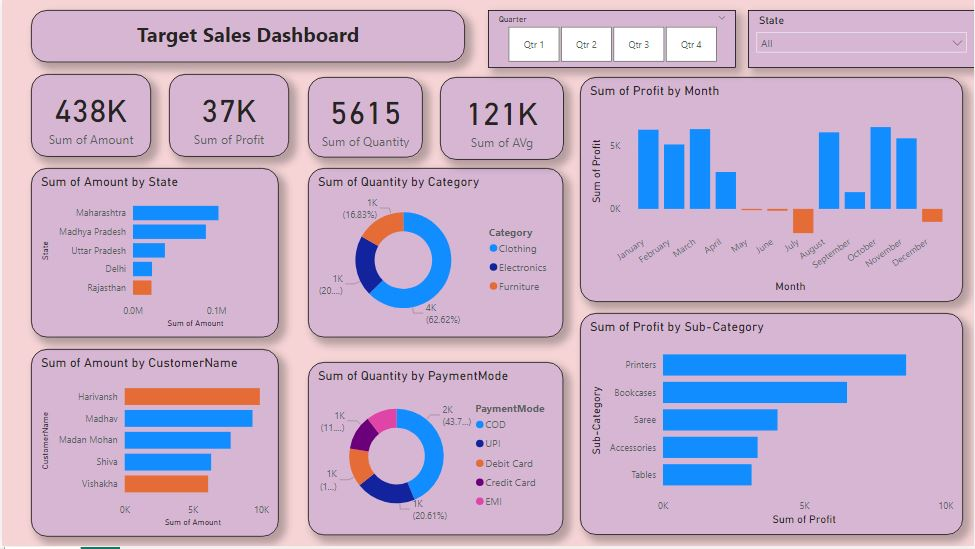

The page's visual inventory and layout, read from the dashboard file:
{"tool":"powerbi","page":{"name":"Page 1","canvas":[1280,720],"ordinal":0},"visuals":[{"type":"textbox","box":[38.6,15.1,571.1,68.9],"z":0},{"type":"columnChart","fields":{"Category":["Orders.Order Date.Variation.Date Hierarchy.Month"],"Y":["Details.Profit"]},"box":[760.9,102.5,503.9,295.6],"z":1000},{"type":"barChart","fields":{"Y":["Details.Profit"],"Category":["Details.Sub-Category"]},"box":[760.9,413.2,503.9,292.3],"z":2000},{"type":"donutChart","fields":{"Category":["Details.Category"],"Y":["Details.Quantity"]},"box":[403.1,221.7,336,223.4],"z":3000},{"type":"donutChart","fields":{"Category":["Details.PaymentMode"],"Y":["Details.Quantity"]},"box":[403.1,477.1,336,228.5],"z":4000},{"type":"card","fields":{"Values":["Details.Amount"]},"box":[38.6,99.1,157.9,109.2],"z":5000},{"type":"card","fields":{"Values":["Details.Profit"]},"box":[220.1,99.1,157.9,109.2],"z":6000},{"type":"card","fields":{"Values":["Details.Quantity"]},"box":[403.1,102.5,151.2,105.8],"z":7000},{"type":"card","fields":{"Values":["Details.AVg"]},"box":[576.2,102.5,162.9,109.2],"z":8000},{"type":"barChart","fields":{"Y":["Details.Amount"],"Category":["Orders.CustomerName"]},"box":[38.6,460.3,325.9,246.9],"z":9000},{"type":"barChart","fields":{"Y":["Details.Amount"],"Category":["Orders.State"]},"box":[38.6,221.7,325.9,223.4],"z":10000},{"type":"slicer","fields":{"Values":["Orders.Order Date.Variation.Date Hierarchy.Quarter"]},"box":[640,15.1,325.9,75.6],"z":11000},{"type":"slicer","fields":{"Values":["Orders.State"]},"box":[981,15.1,299,75.6],"z":12000}]}

Visuals, with their boxes in screenshot pixels (x1, y1, x2, y2), scaled from the page's 1280x720 canvas onto the 975x549 screenshot:
textbox: 29:12:464:64
columnChart - Orders.Order Date.Variation.Date Hierarchy.Month x Details.Profit: 580:78:963:304
barChart - Details.Profit x Details.Sub-Category: 580:315:963:538
donutChart - Details.Category x Details.Quantity: 307:169:563:339
donutChart - Details.PaymentMode x Details.Quantity: 307:364:563:538
card - Details.Amount: 29:76:150:159
card - Details.Profit: 168:76:288:159
card - Details.Quantity: 307:78:422:159
card - Details.AVg: 439:78:563:161
barChart - Details.Amount x Orders.CustomerName: 29:351:278:539
barChart - Details.Amount x Orders.State: 29:169:278:339
slicer - Orders.Order Date.Variation.Date Hierarchy.Quarter: 488:12:736:69
slicer - Orders.State: 747:12:974:69
